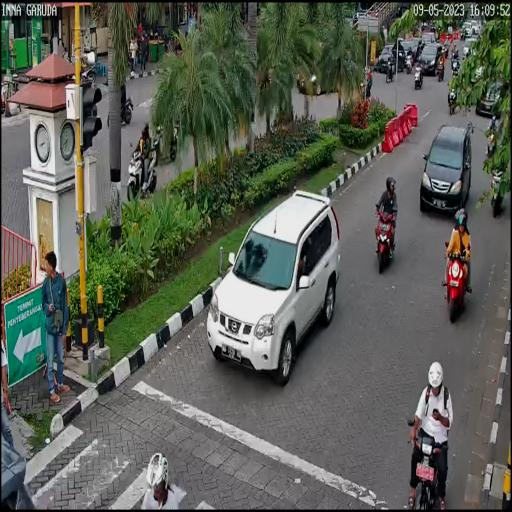mobil: (205, 181, 344, 386), (418, 120, 474, 222)
motor: (408, 417, 452, 512), (440, 242, 472, 329), (372, 197, 402, 278)
